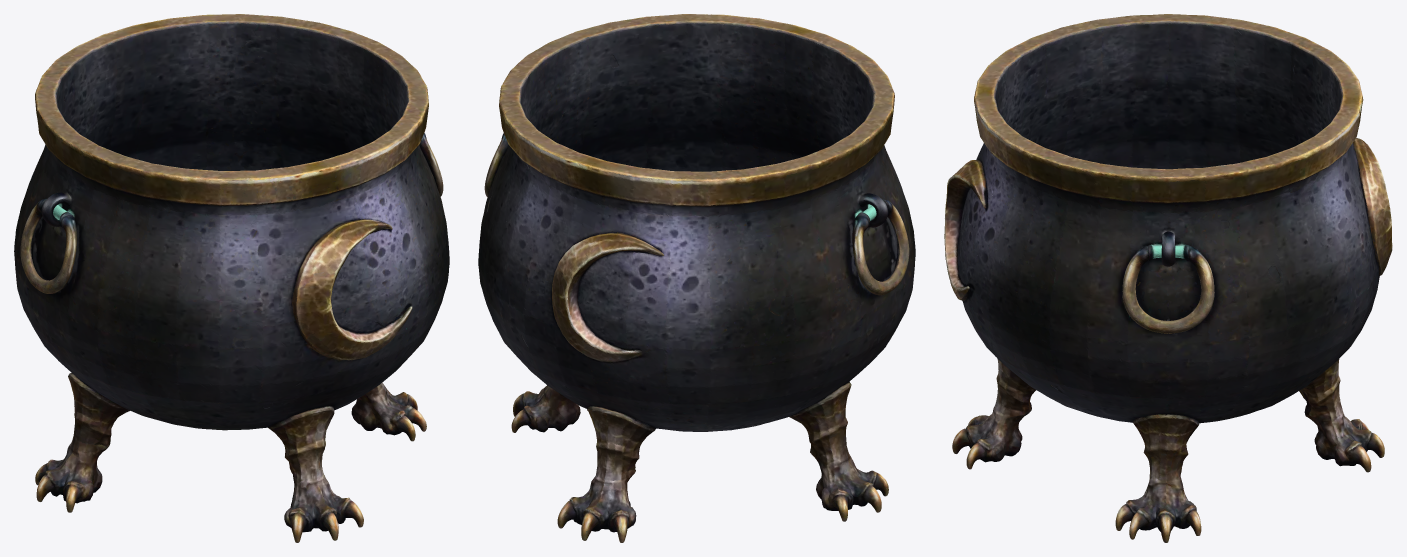
File: cauldron.glb
3 renders of one model, left to right at view 1: azimuth 30°, elevation 25°; view 2: azimuth 150°, elevation 25°; view 3: azimuth 270°, elevation 25°, orthographic.
Bounding box in the file's own units: 1 × 0.8883 × 1.
Materials: 1 (1 with a texture image).
